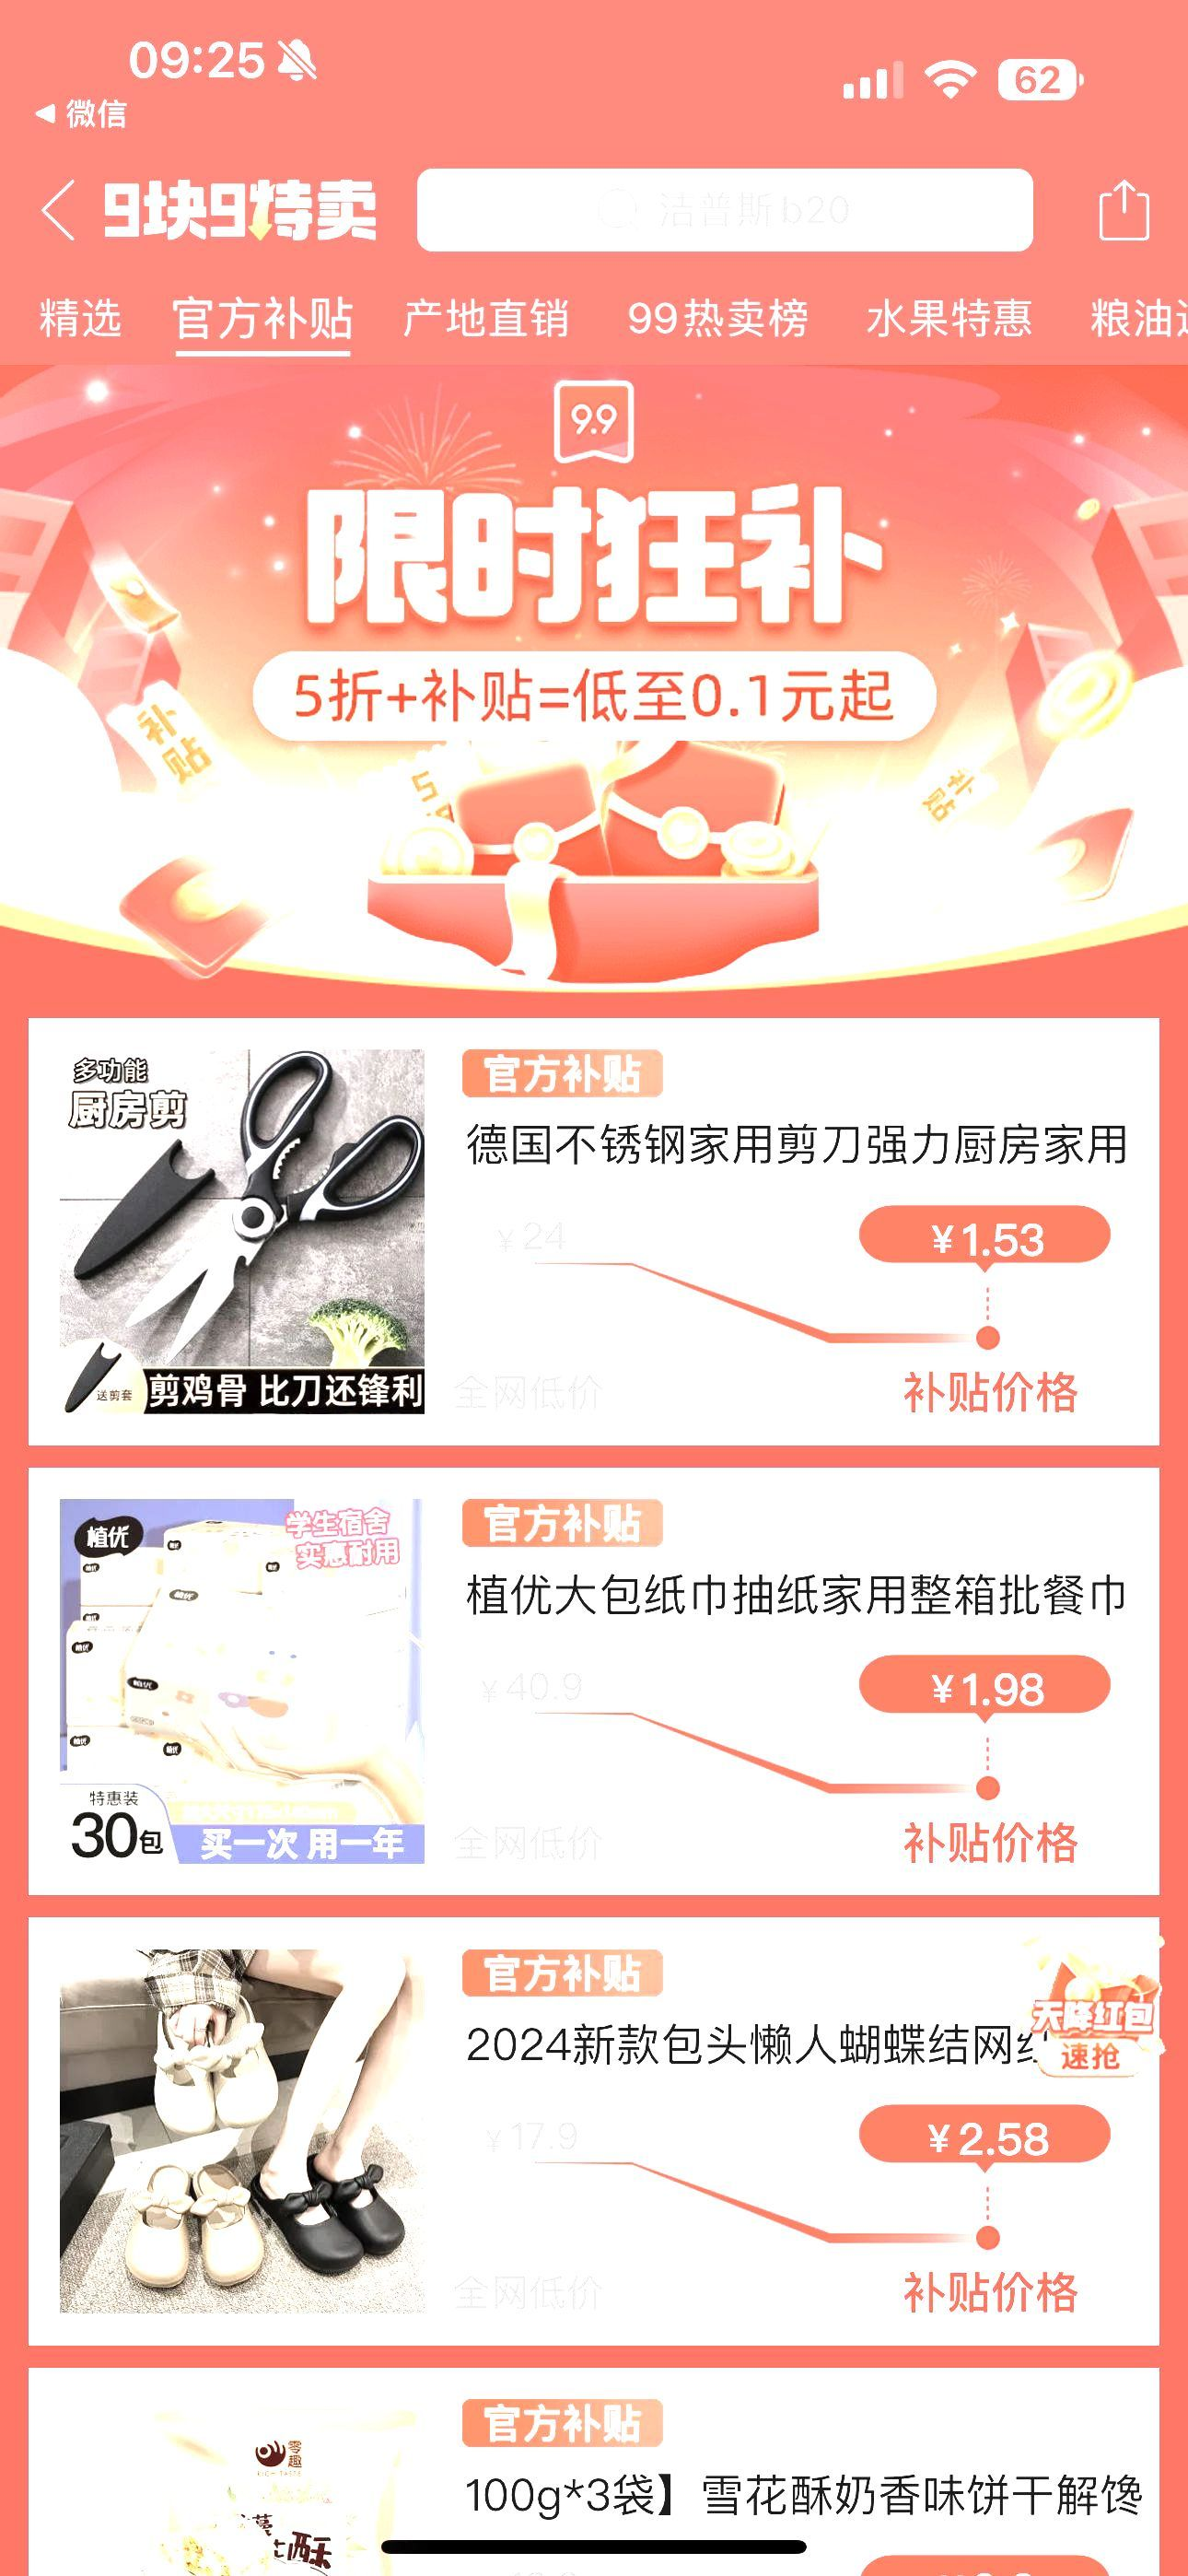item: (7, 1901, 1178, 2354), (7, 996, 1176, 1444), (7, 1459, 1183, 1901)
op_bar: (13, 153, 1188, 276)
